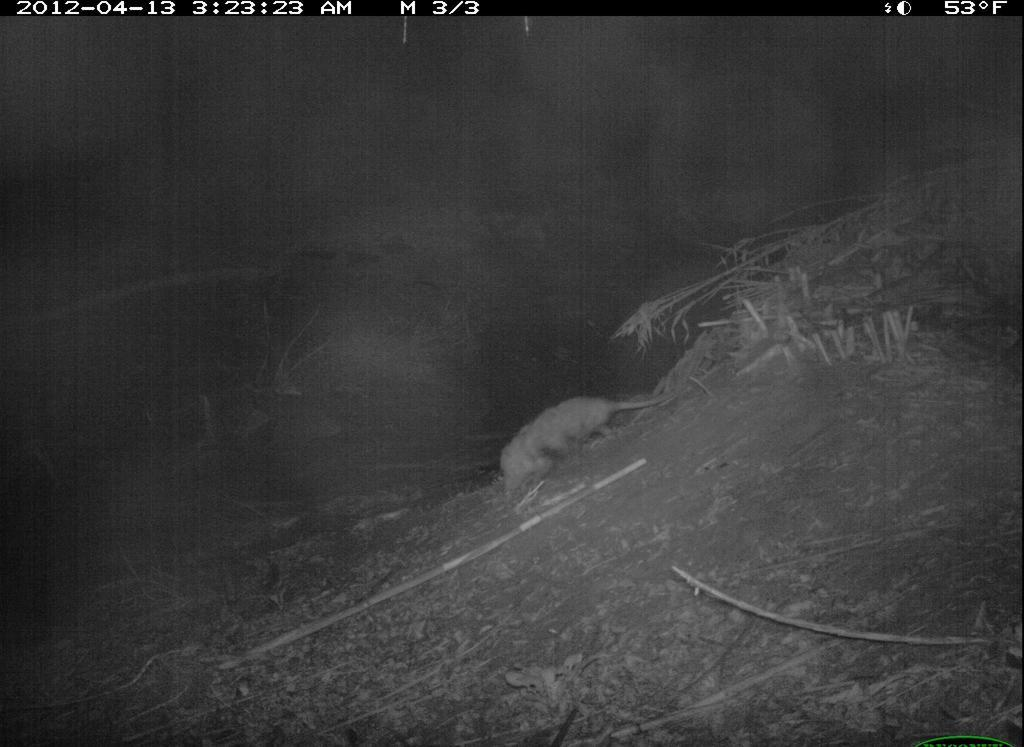opossum: (486, 378, 675, 510)
